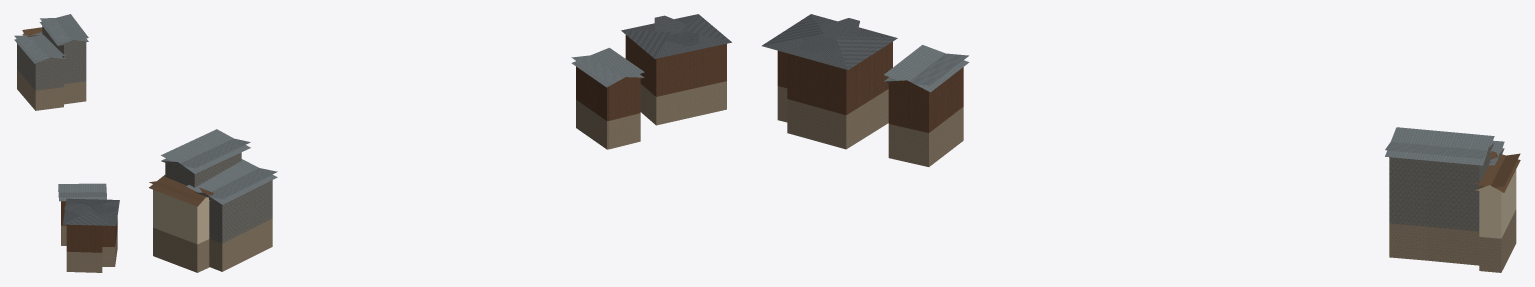
The model's file is bld_c2_17_465.gltf.
The picture shows the model from 3 angles, left to right: view 1: azimuth 30°, elevation 25°; view 2: azimuth 150°, elevation 25°; view 3: azimuth 270°, elevation 25°; orthographic projection. The views are drawn at different scales.
Parts seen in each view (by area): view 1: bld_c2_17_465; view 2: bld_c2_17_465; view 3: bld_c2_17_465.
Boxes of the visible parts, x1,y1,x2,y2 form: bld_c2_17_465: [14, 14, 119, 272]; bld_c2_17_465: [149, 14, 731, 272]; bld_c2_17_465: [762, 14, 1520, 272].
Size of the model in its own units: 55.19 by 17.3 by 103.
Materials: 10 (10 with a texture image).
